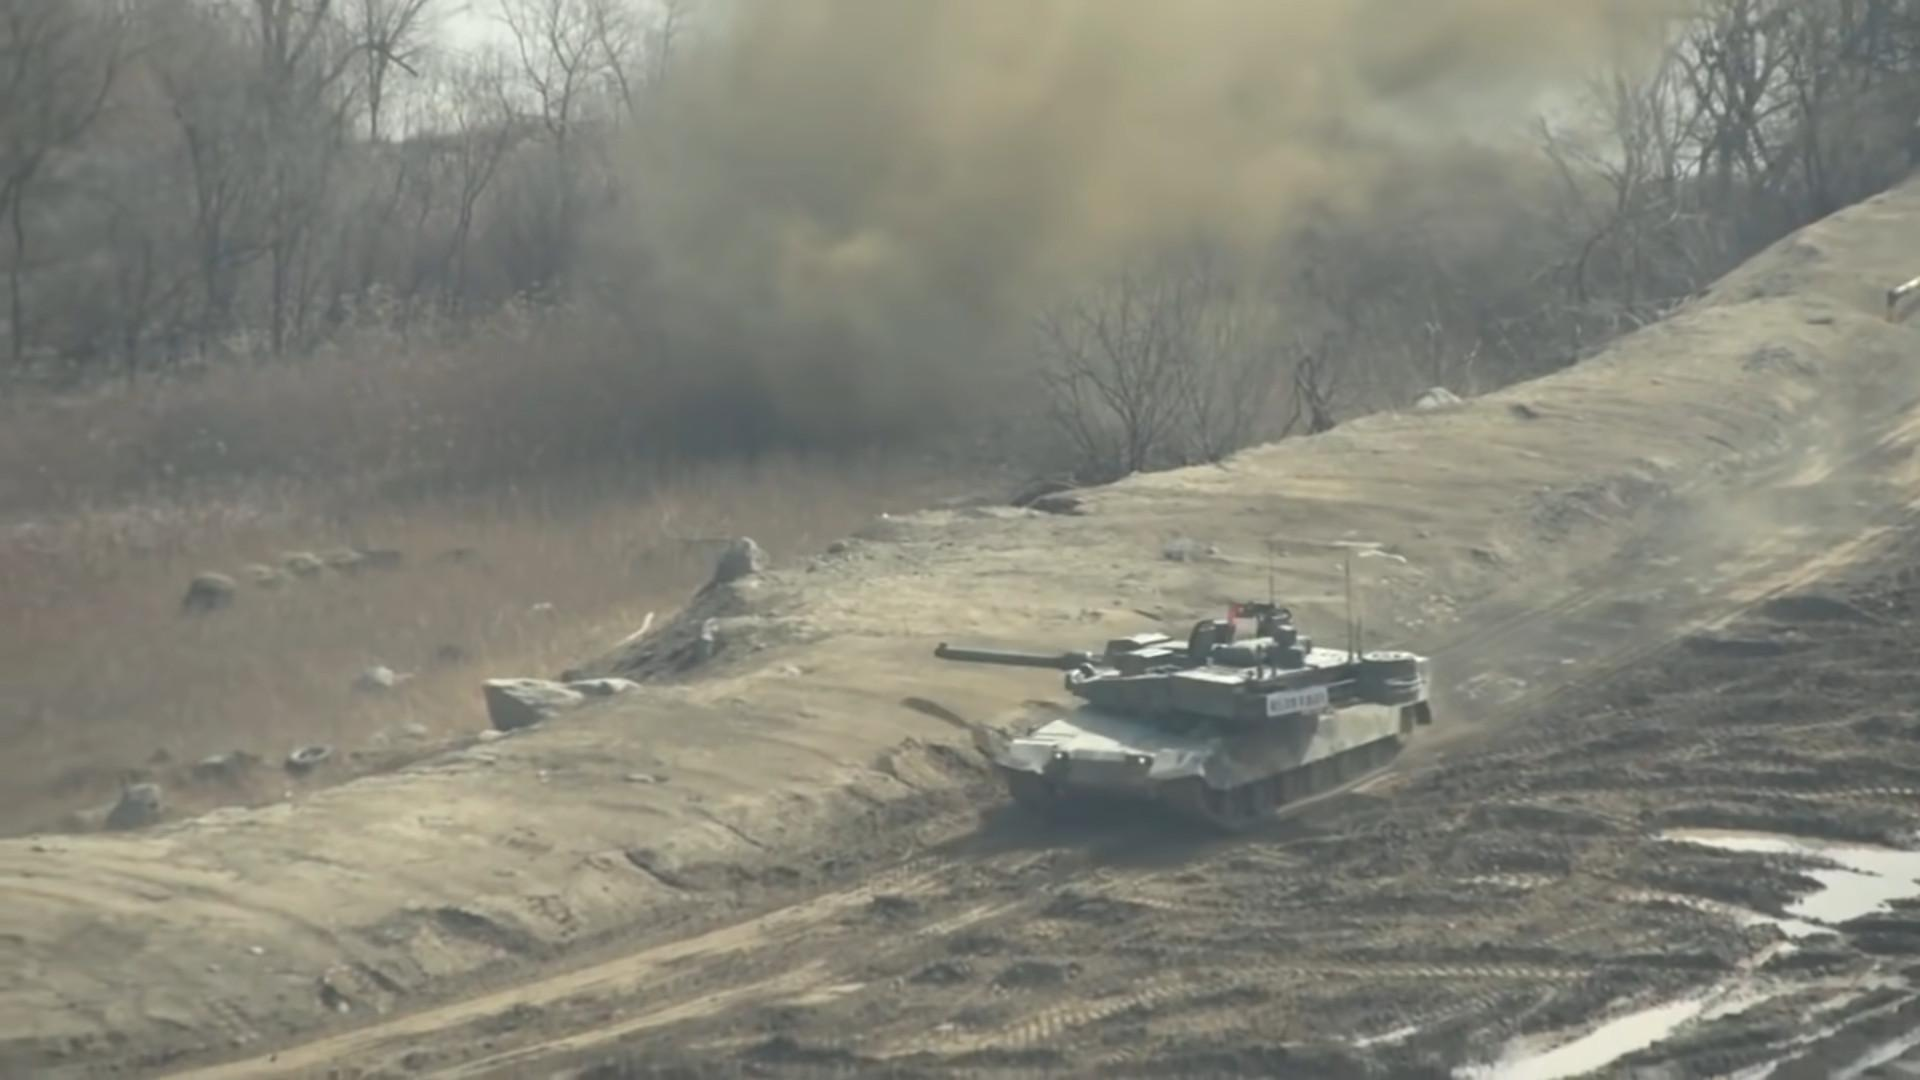tank: (938, 604, 1435, 839)
